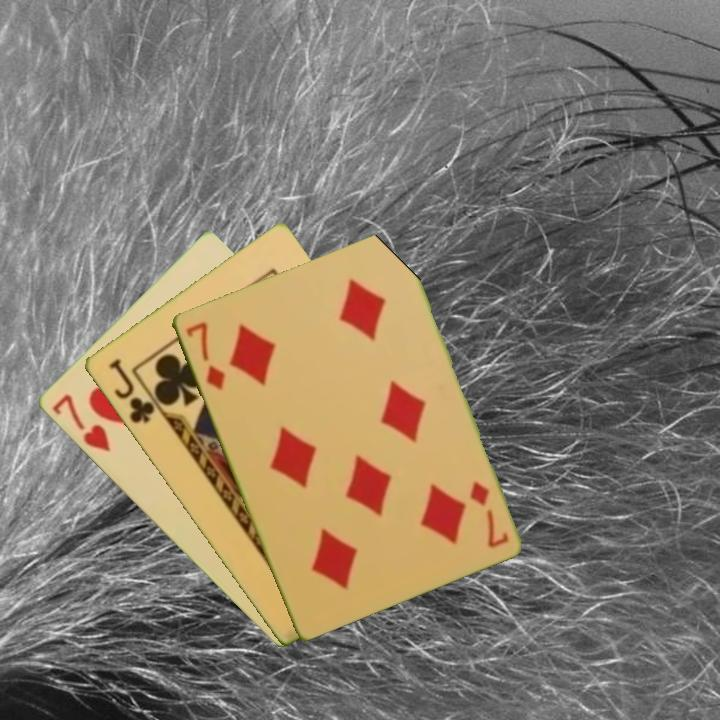7d: (181, 318, 228, 393), (465, 477, 511, 550)
7h: (48, 390, 113, 455)
Jc: (105, 355, 157, 427)
